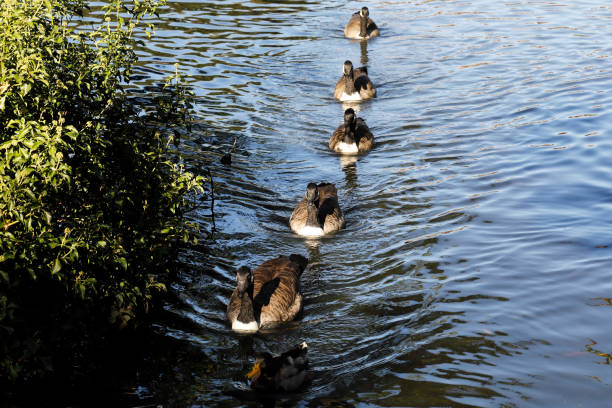goose: (224, 252, 311, 334), (245, 340, 313, 400), (286, 177, 346, 241), (327, 107, 376, 158), (332, 59, 379, 103), (343, 4, 381, 40)
